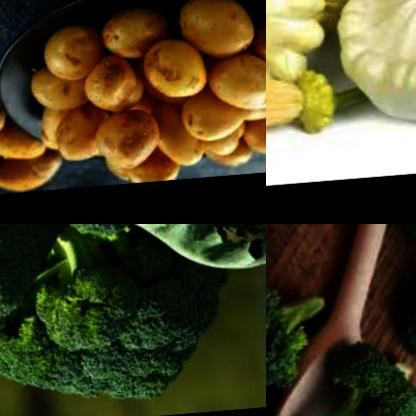broccoli: (0, 227, 238, 413), (45, 224, 266, 270), (266, 353, 416, 416), (266, 273, 344, 392), (0, 224, 54, 361), (373, 224, 416, 381)
potato: (97, 2, 173, 72), (179, 0, 255, 68), (90, 111, 160, 181), (141, 40, 212, 107), (175, 89, 247, 151), (38, 18, 106, 83), (83, 57, 151, 120), (28, 67, 103, 121), (204, 54, 266, 119), (0, 142, 68, 196), (148, 106, 199, 176), (51, 110, 105, 166), (203, 137, 257, 179), (0, 123, 48, 164), (238, 103, 266, 166), (248, 22, 266, 78)
squash-patisson: (332, 0, 416, 134), (266, 0, 331, 98), (280, 0, 409, 26)
